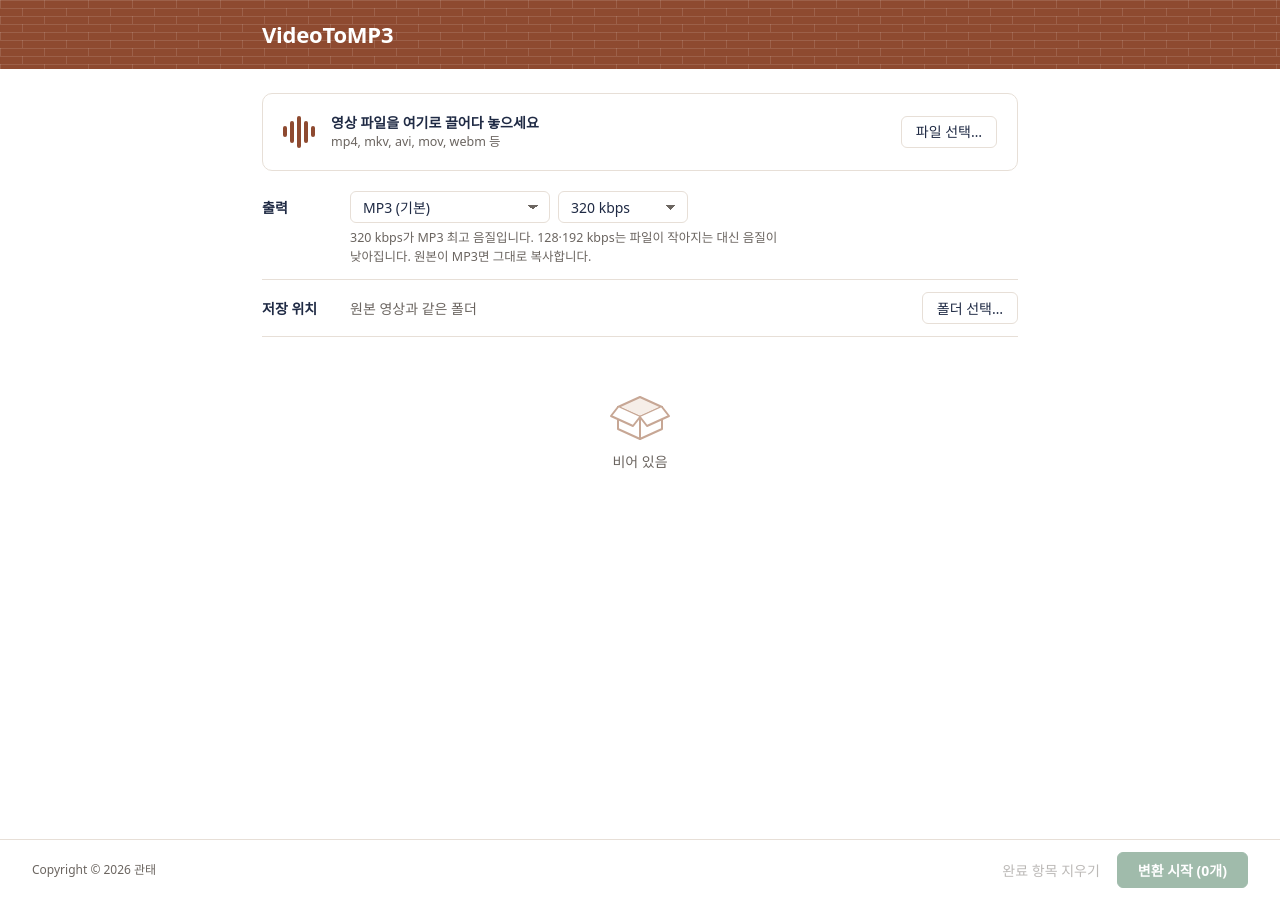
Test case: 설정 › 형식 flac: 음질 안내와 음질 선택 가능 여부
Select "FLAC (무손실)" in the dropdown named "출력 형식" at coordinates (450, 207), box x1=350 y1=191 x2=550 y2=223
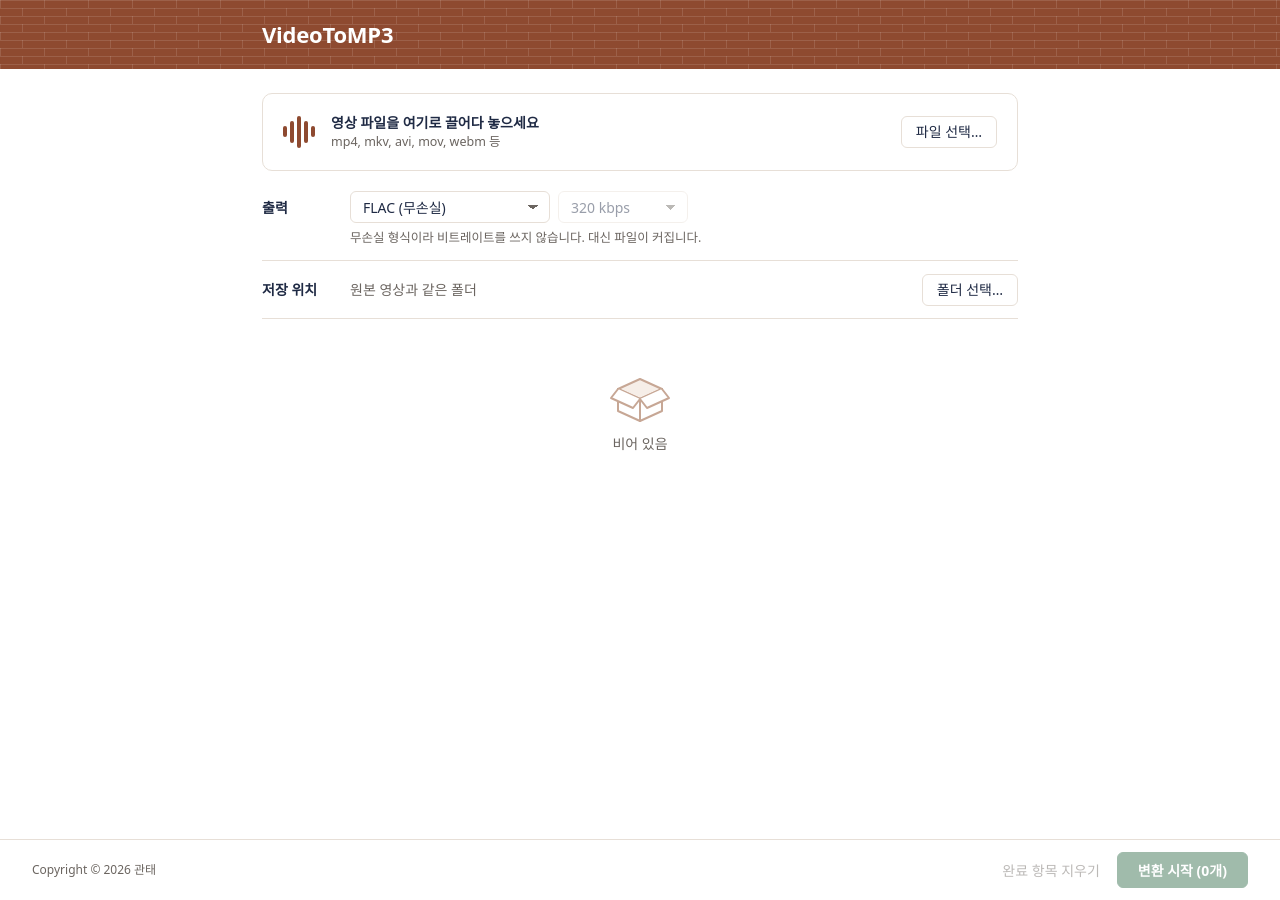
Now the text with id "bitrate-hint" reads "무손실 형식이라 비트레이트를 쓰지 않습니다. 대신 파일이 커집니다.", box x1=350 y1=229 x2=702 y2=246
Now the dropdown named "음질" is disabled, box x1=558 y1=191 x2=688 y2=223
